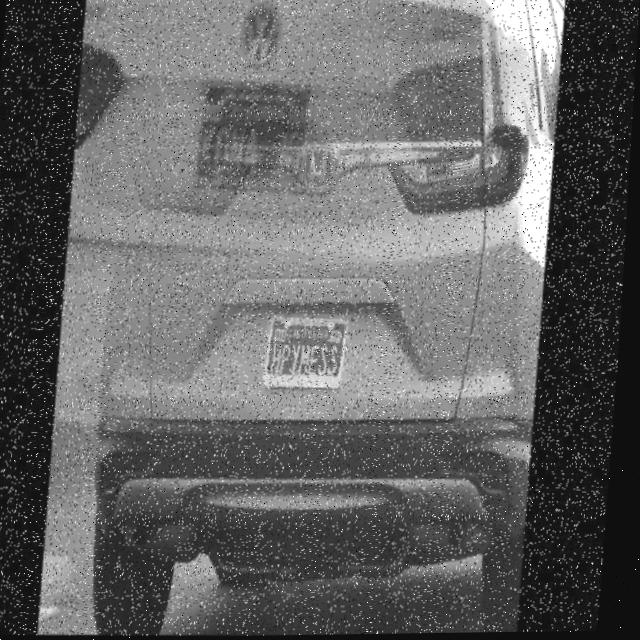LicensePlate: (267, 314, 355, 390)
